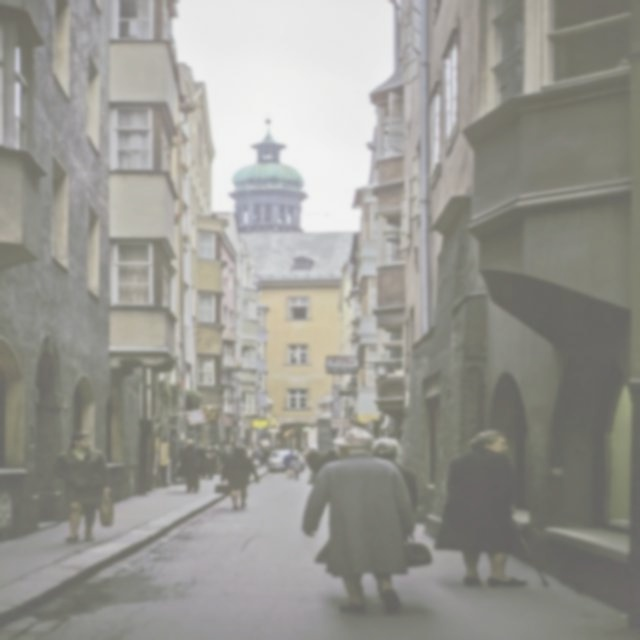pessoa: (298, 425, 418, 613), (432, 428, 534, 588), (49, 430, 118, 544), (369, 437, 421, 516), (212, 444, 260, 510), (172, 438, 205, 495), (200, 442, 221, 479), (218, 445, 236, 483), (246, 441, 273, 466), (284, 454, 304, 480), (282, 449, 298, 479), (304, 447, 322, 471), (324, 448, 342, 465)
